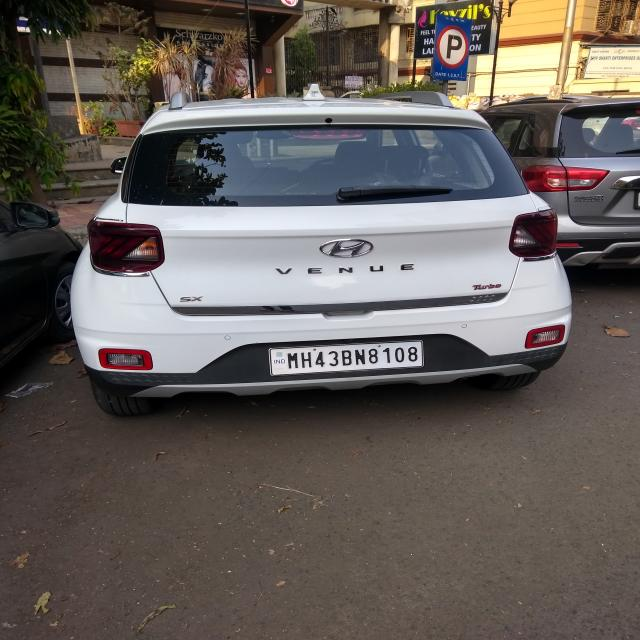Number-Plate: (272, 344, 419, 372)
